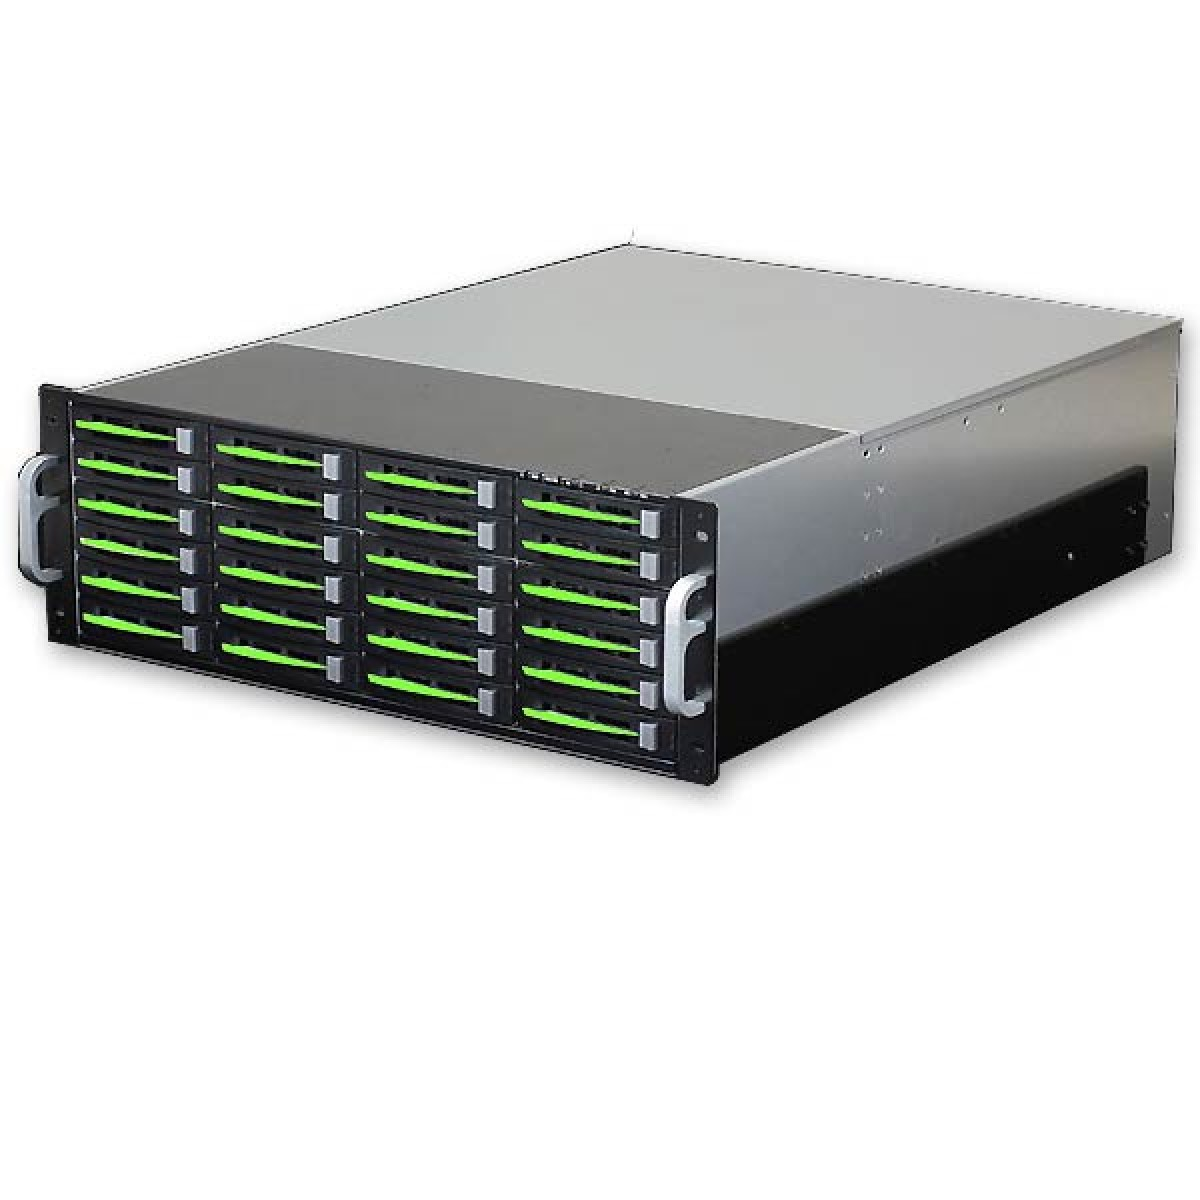File Server: (8, 227, 1195, 810)
